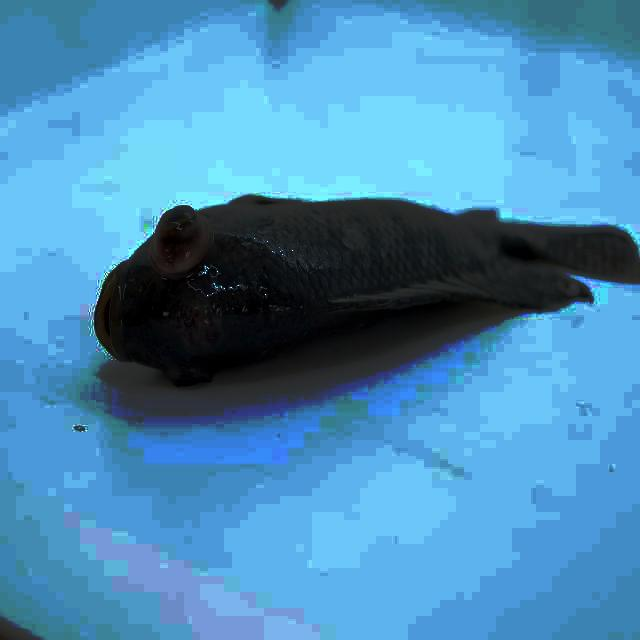Streptococcus: (94, 196, 640, 383)
